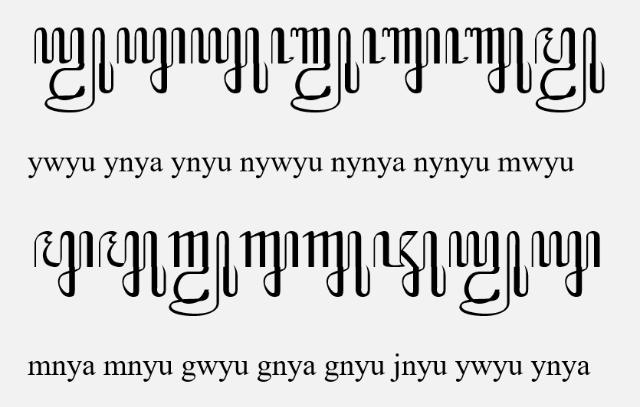gny: (239, 231, 299, 298)
gnyu: (302, 232, 371, 298)
gwyu: (166, 231, 238, 318)
jnyu: (373, 231, 447, 297)
mny: (34, 230, 94, 298)
mnyu: (98, 230, 168, 298)
mwyu: (534, 27, 606, 114)
nyny: (362, 26, 441, 94)
nynyu: (444, 26, 532, 94)
nywyu: (270, 27, 360, 114)
yny: (116, 27, 186, 94), (531, 231, 601, 298)
ynyu: (190, 26, 268, 94)
ywyu: (34, 26, 114, 114), (449, 231, 529, 317)
